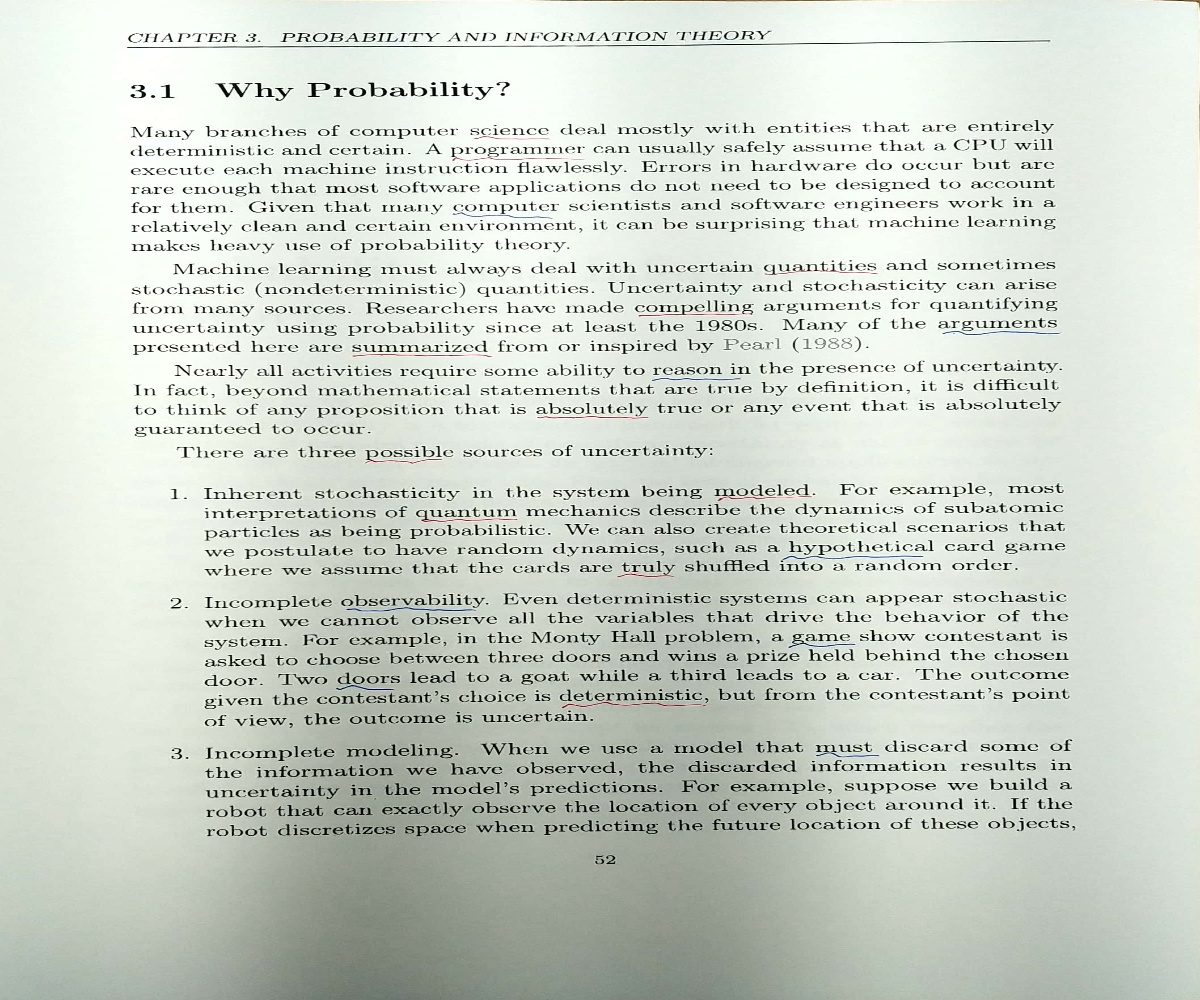underline: (560, 699, 707, 711), (782, 551, 925, 561), (349, 351, 492, 360), (535, 411, 650, 422), (940, 327, 1061, 337), (634, 309, 747, 319), (650, 374, 741, 385), (447, 155, 587, 162), (342, 605, 476, 612), (451, 211, 553, 220), (363, 457, 444, 468), (812, 749, 879, 760), (762, 269, 882, 275), (336, 682, 396, 694), (787, 640, 858, 650), (470, 133, 558, 141), (716, 495, 816, 502), (613, 571, 673, 581), (420, 516, 521, 521)
